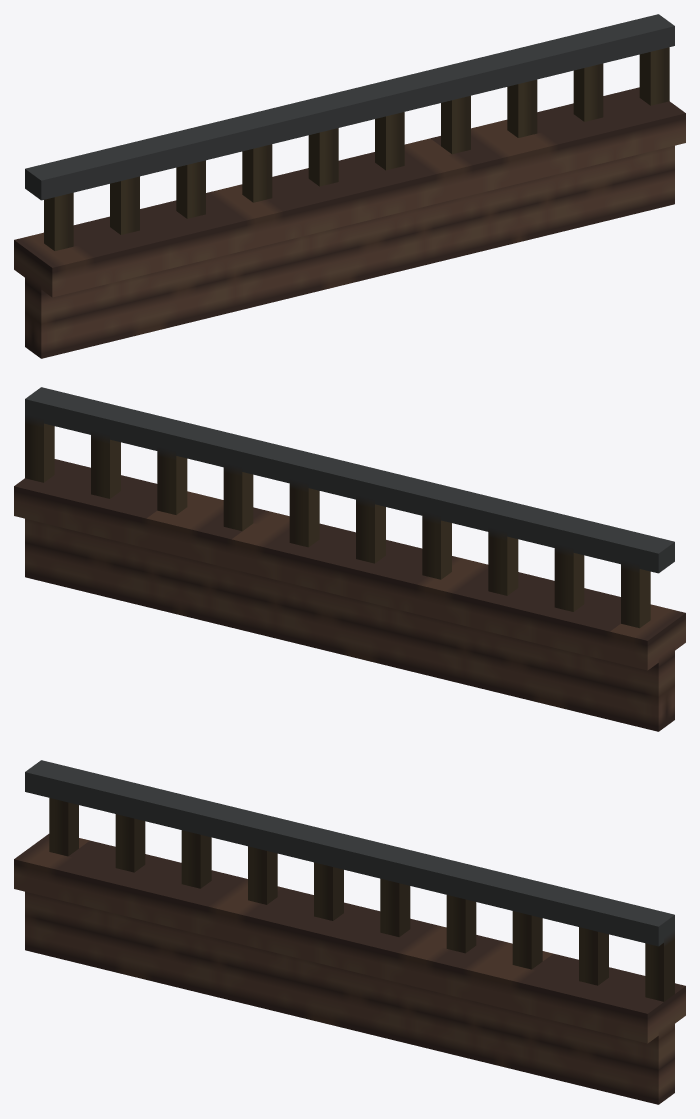
File: OuterFence_Entrance_00.fbx
3 views of the same model, one above another, from view 1: azimuth 30°, elevation 25°; view 2: azimuth 150°, elevation 25°; view 3: azimuth 330°, elevation 25° (orthographic).
Visible parts, largest first — view 1: OuterFence_Entrance_00; view 2: OuterFence_Entrance_00; view 3: OuterFence_Entrance_00.
Part boxes in pixels (<box>): OuterFence_Entrance_00: <box>14,14,685,358</box>; OuterFence_Entrance_00: <box>14,387,685,731</box>; OuterFence_Entrance_00: <box>14,760,685,1104</box>.
Bounding box in the file's own units: 335 × 90 × 35.
